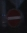No entry: (6, 6, 22, 28)
